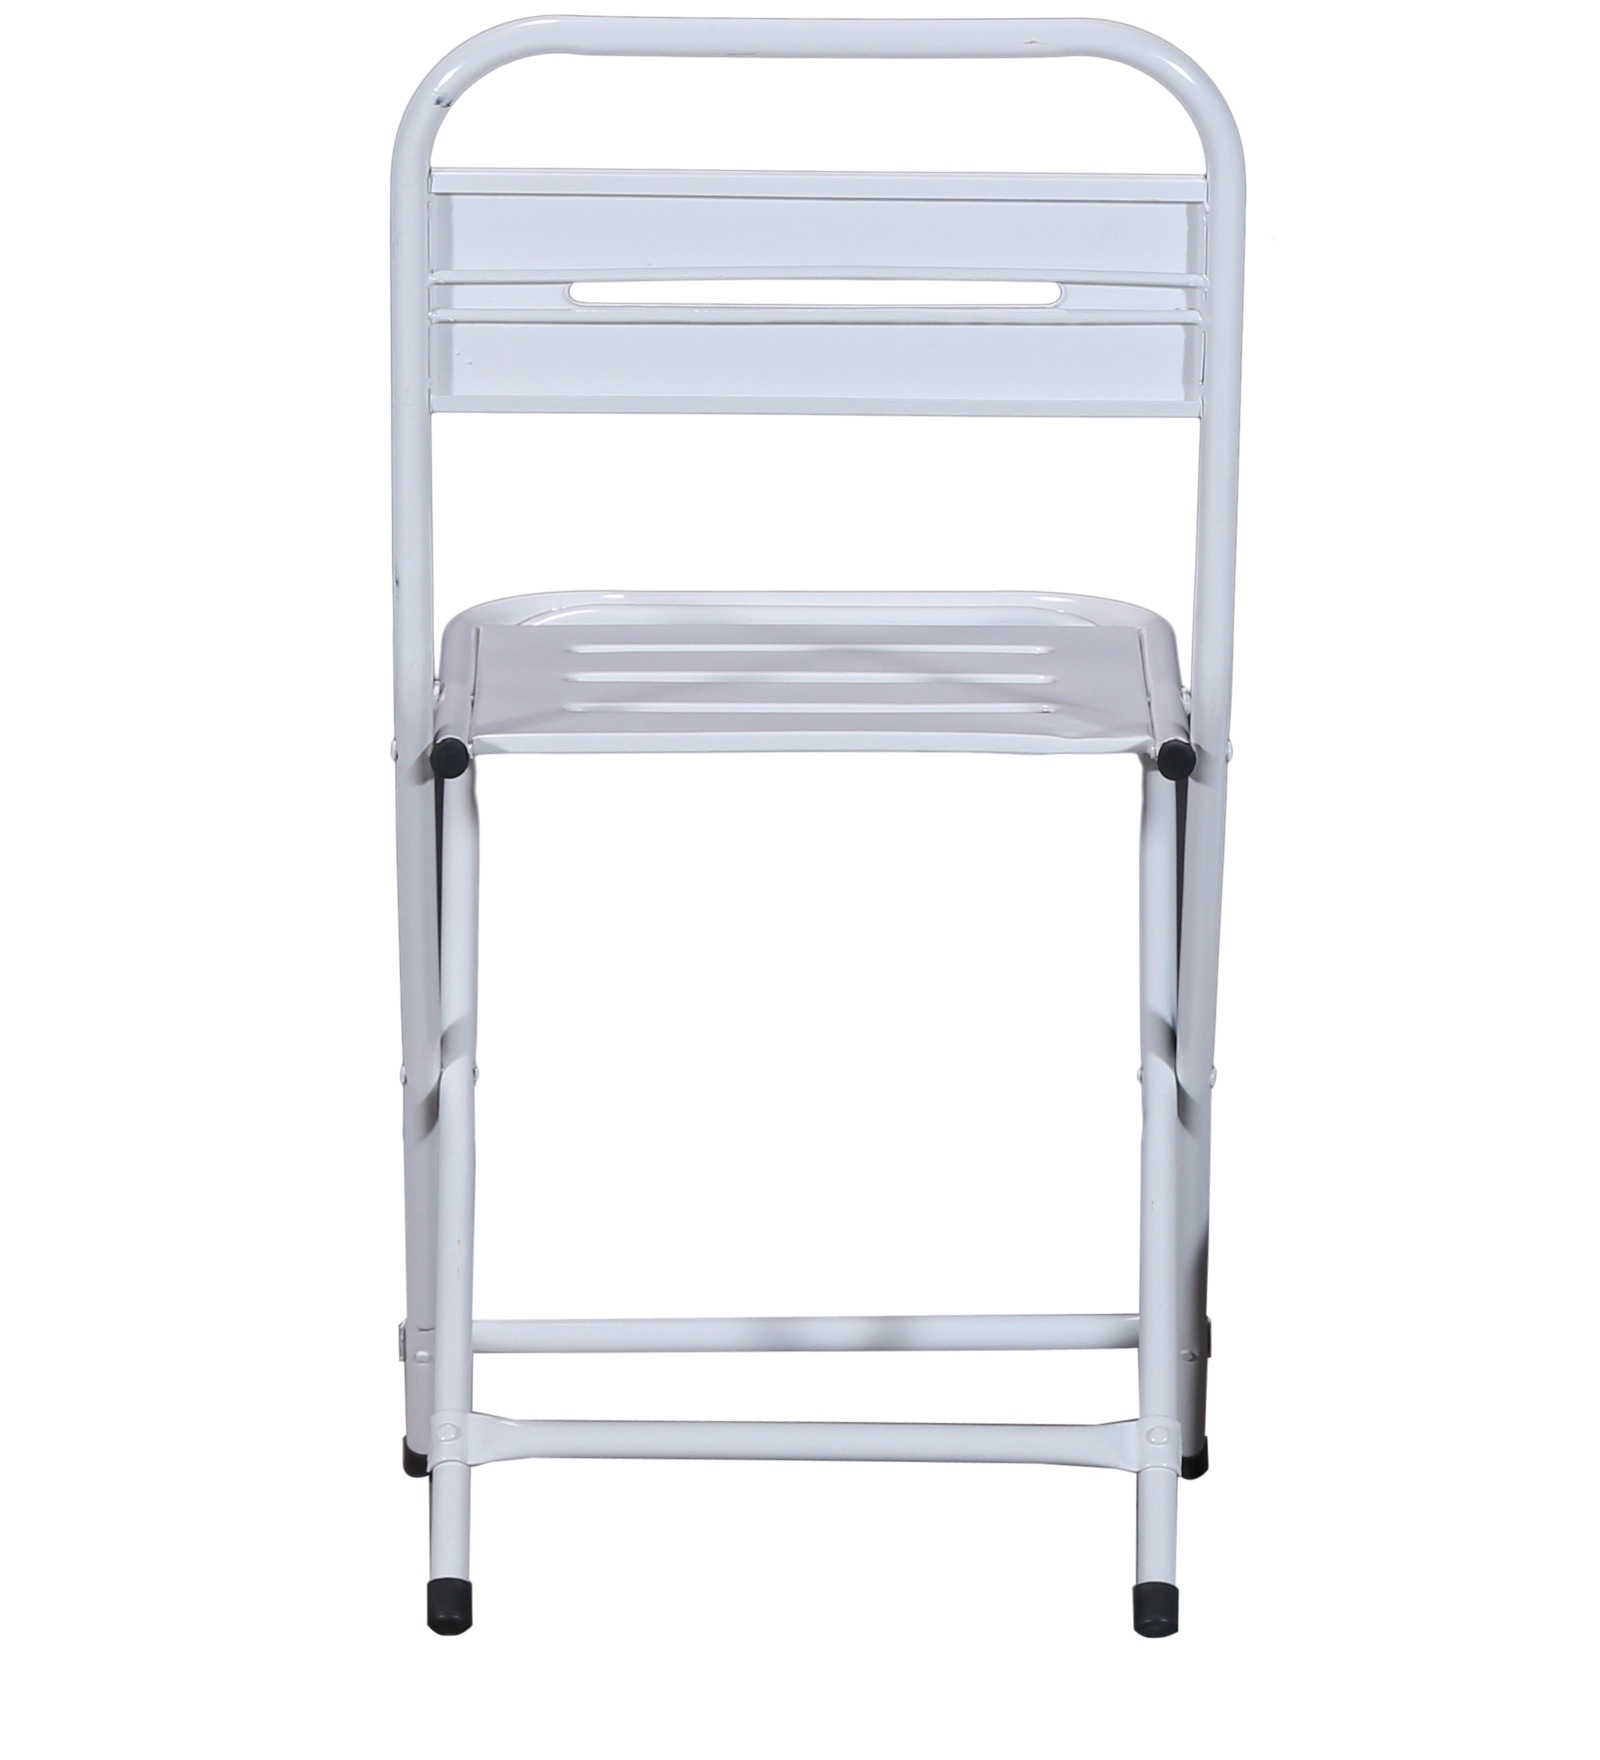Marandoo Grunge White Outdoor Folding Chair by Bohemiana: (366, 9, 1254, 1643)
